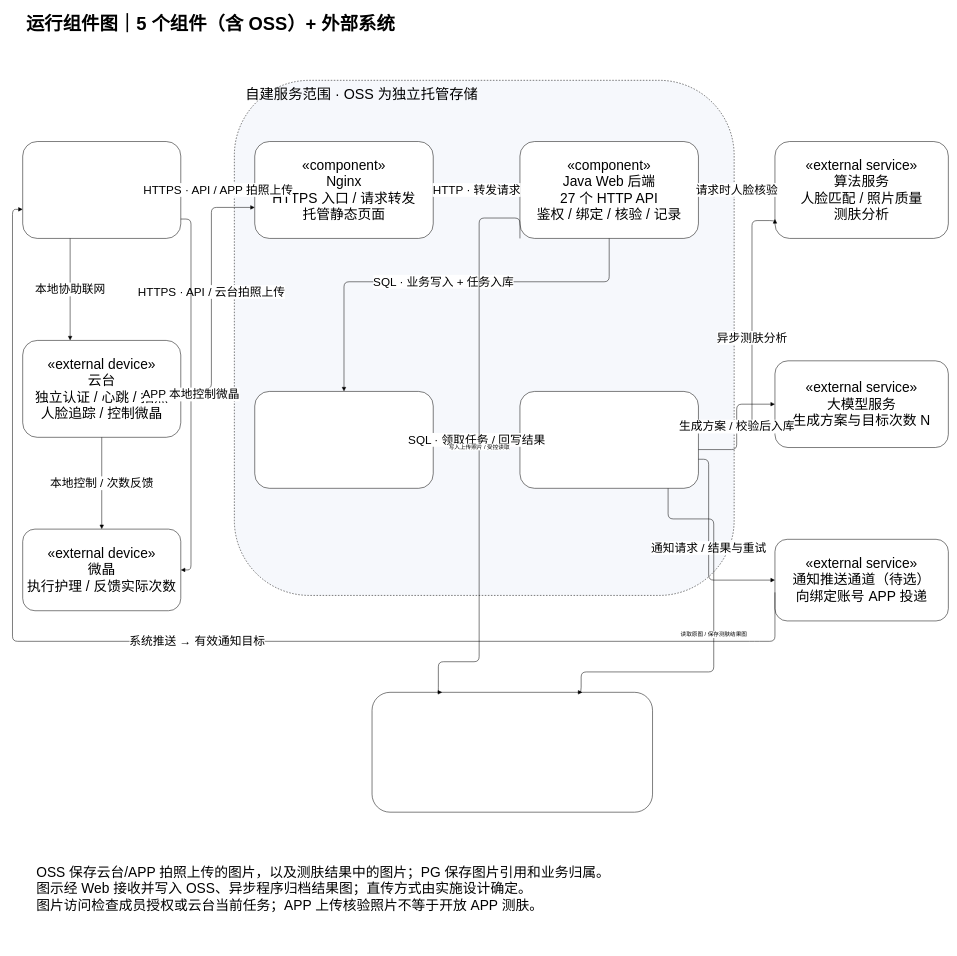
Image size: 957x956. Some labels were removed from this diagram. The shapes that lost their labels are listed below. From the top down, each one's centre as x and y in pixels, then its label:
At pixel 101 189: "«external client» 手机 APP 账号登录 / 配网与绑定 查看资料 / 控制微晶".
At pixel 343 439: "«database» PostgreSQL（PG） 业务状态 / 当前任务 / N/K 图片对象引用与归属，不存图片文件".
At pixel 608 439: "«component» Python 异步 Worker 分析 / 方案 / 离线监测 通知投递与重试".
At pixel 512 752: "«managed storage» OSS 对象存储 云台 / APP 上传照片 测肤结果图片".
